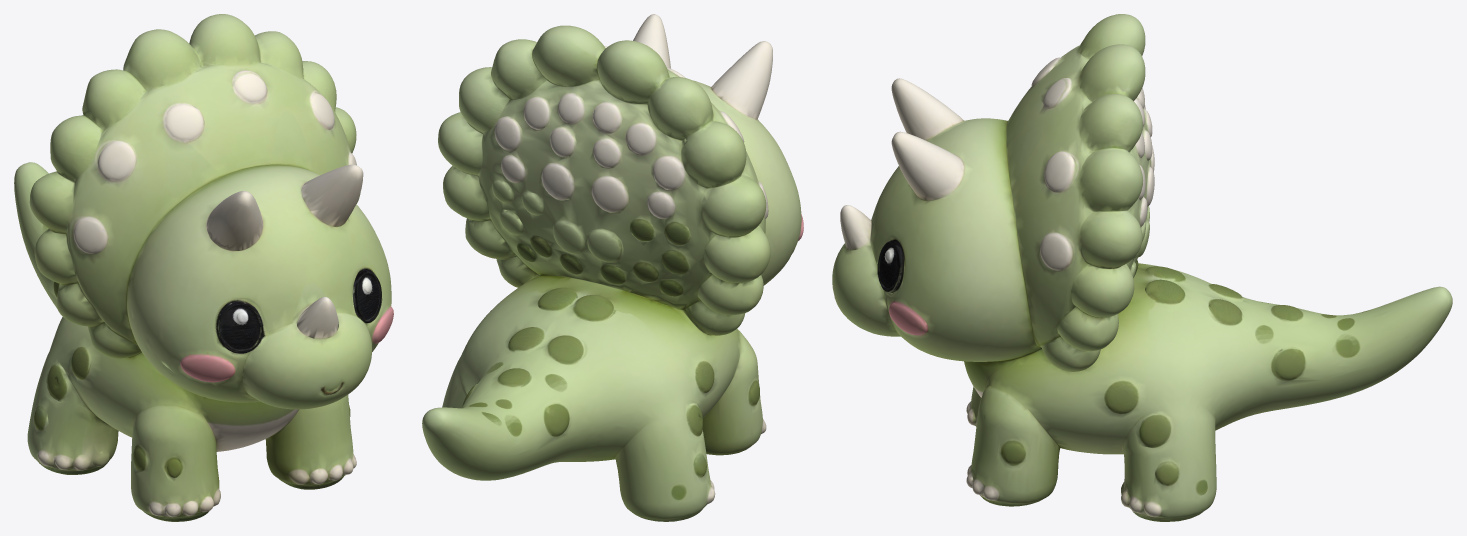
File: malang-trike-web.glb
3 renders of one model, left to right at view 1: azimuth 30°, elevation 25°; view 2: azimuth 150°, elevation 25°; view 3: azimuth 270°, elevation 25°, orthographic.
Parts seen in each view (by area): view 1: node_0; view 2: node_0; view 3: node_0.
Boxes of the visible parts, x1=… form: node_0: x1=14, y1=14, x2=393, y2=521; node_0: x1=422, y1=14, x2=803, y2=521; node_0: x1=832, y1=14, x2=1452, y2=521.
Size of the model in its own units: 0.6998 by 0.9025 by 1.18.
Materials: 1 (1 with a texture image).
